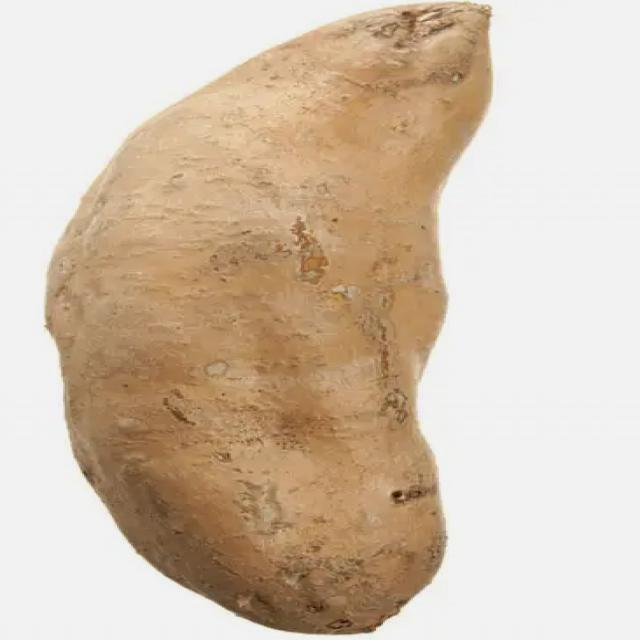potato: (41, 3, 495, 633)
